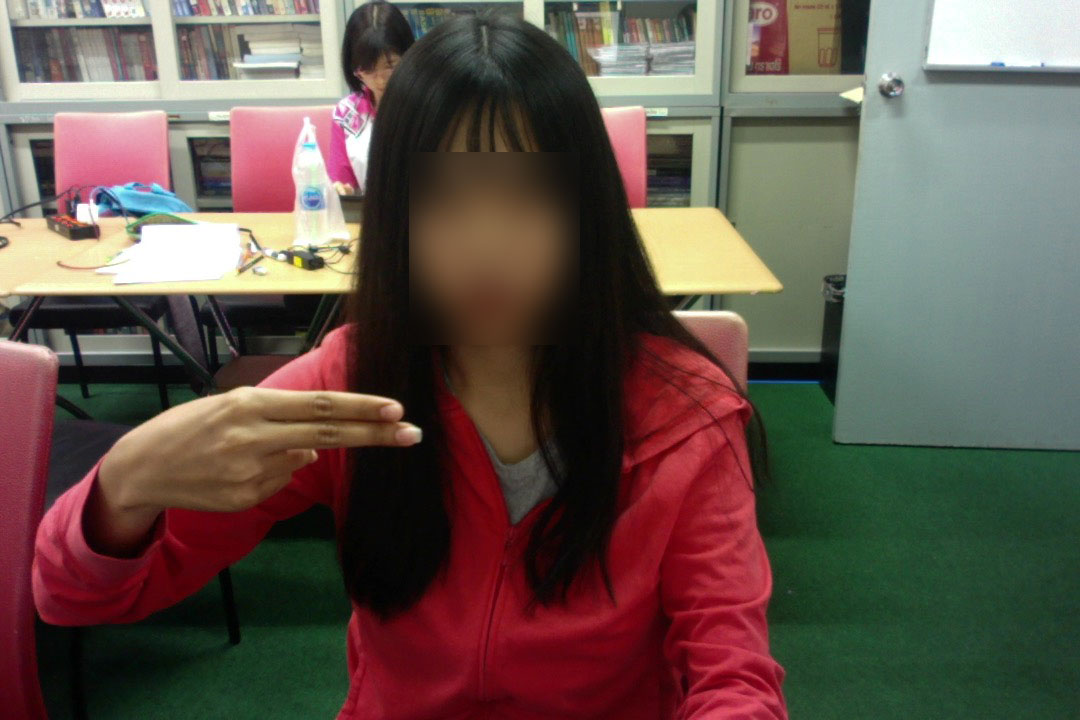hor: (84, 384, 425, 519)
